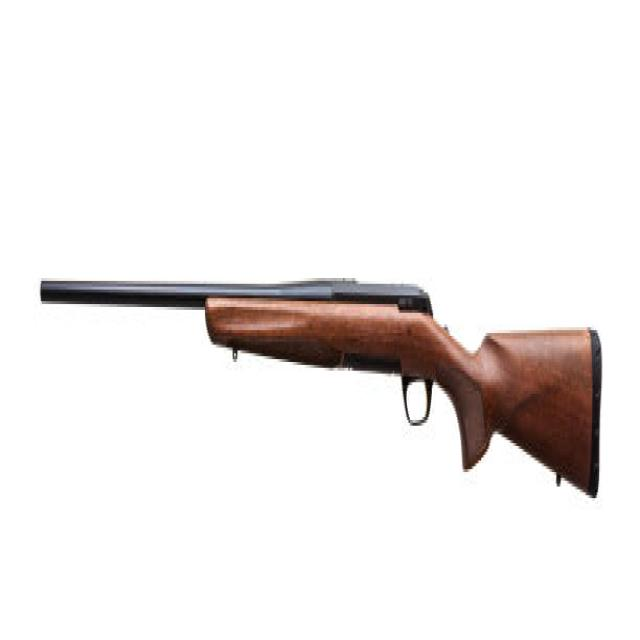rifle: (36, 255, 607, 522)
